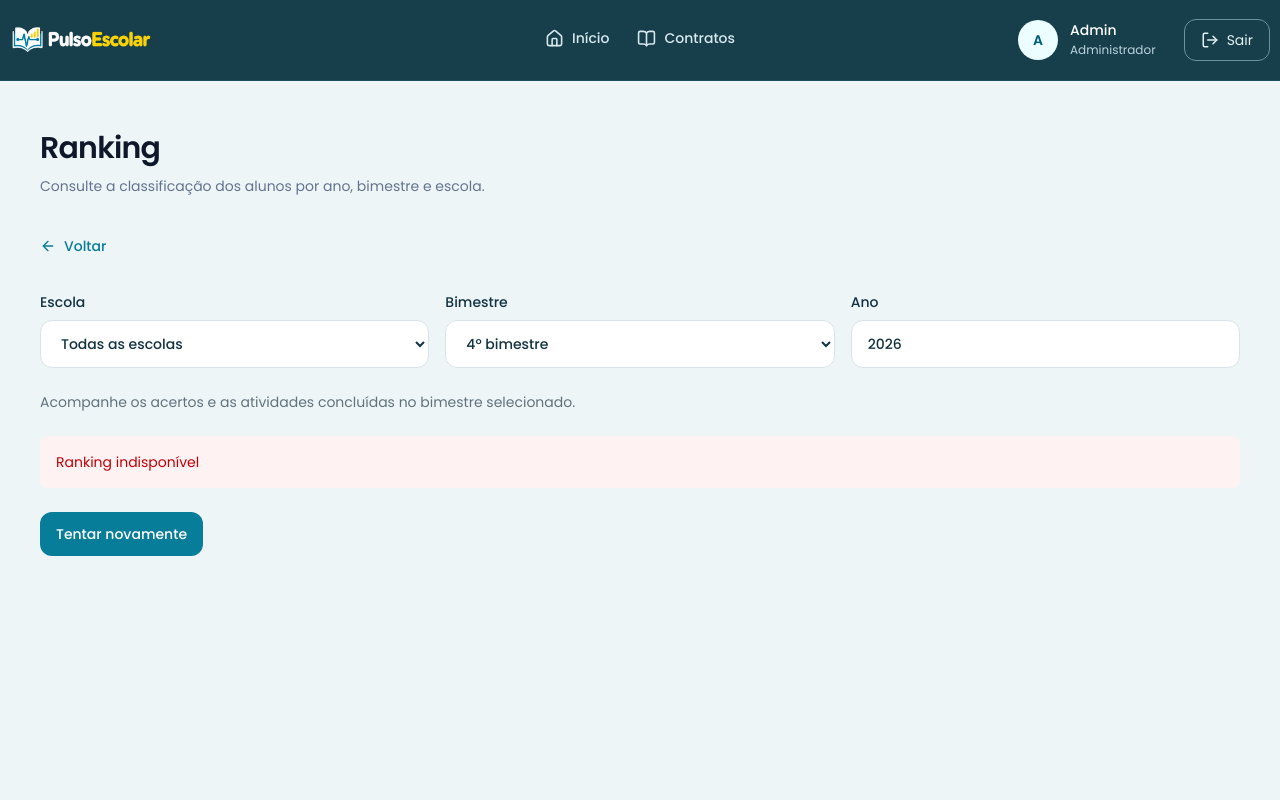
Test case: admin consegue recuperar erro e recebe estado vazio
Expected: the message reads "Ranking indisponível", x1=56 y1=452 x2=199 y2=472
Click the button "Tentar novamente".
click(122, 534)  # box x1=40 y1=512 x2=203 y2=556
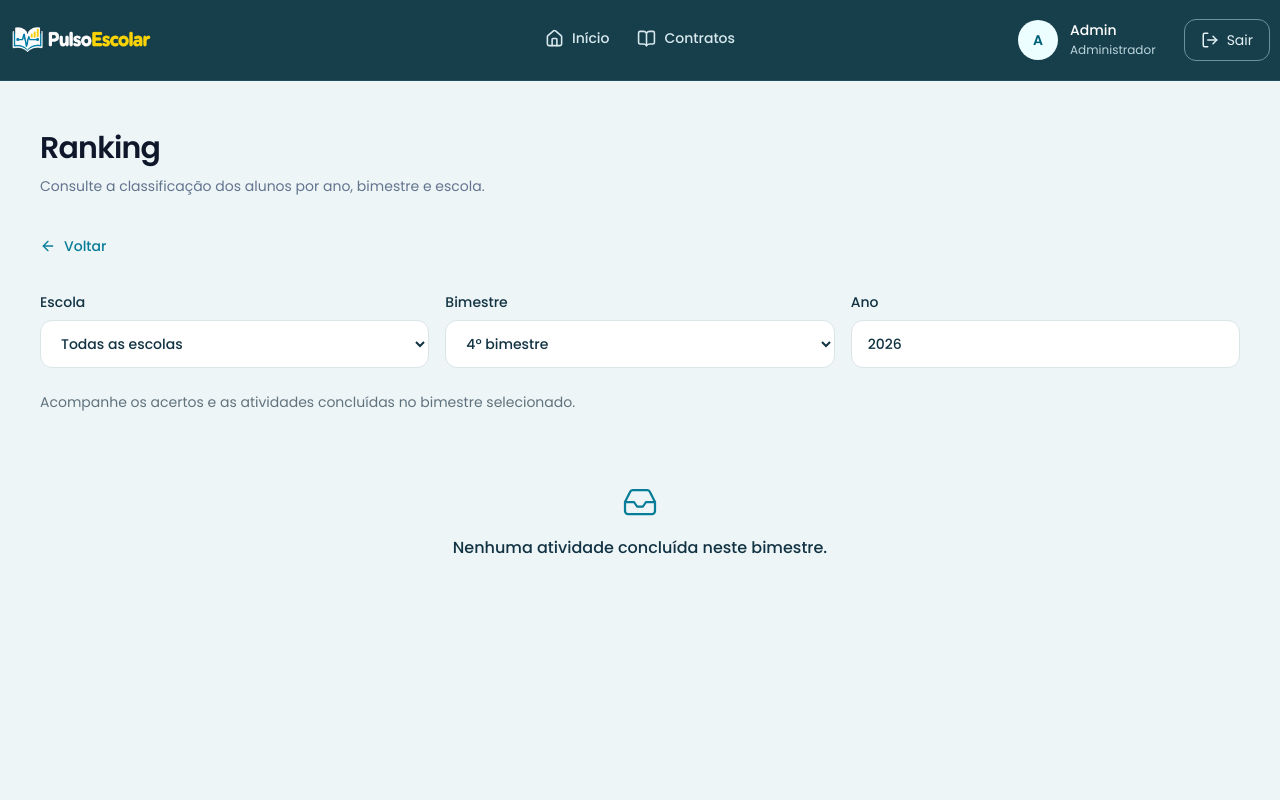
Result: the text "Nenhuma atividade concluída neste bimestre." is shown at x1=453 y1=536 x2=827 y2=560
